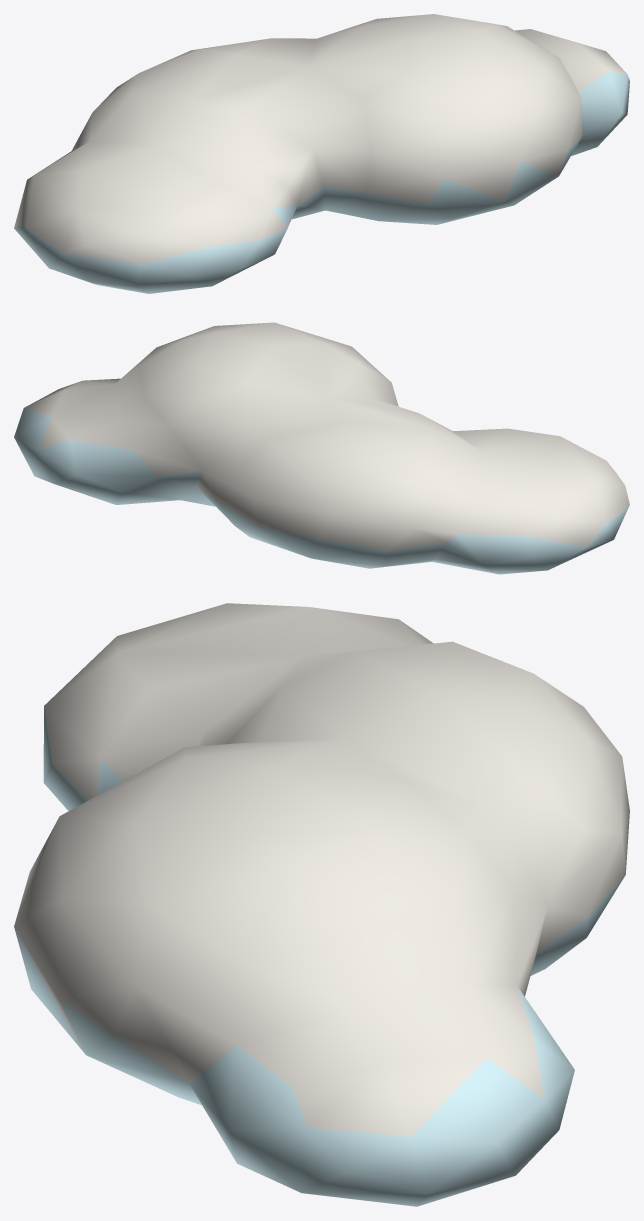
File: mist_puff_b.fbx
3 renders of one model, top to bottom at view 1: azimuth 30°, elevation 25°; view 2: azimuth 150°, elevation 25°; view 3: azimuth 270°, elevation 25°, orthographic. The views are drawn at different scales.
Parts seen in each view (by area): view 1: mist_puff_b; view 2: mist_puff_b; view 3: mist_puff_b.
Part boxes in pixels (x1,y1,x2,y2): mist_puff_b: [14, 14, 629, 293]; mist_puff_b: [14, 322, 629, 574]; mist_puff_b: [14, 603, 629, 1206].
Bounding box in the file's own units: 0.58 × 0.15 × 0.2899.
